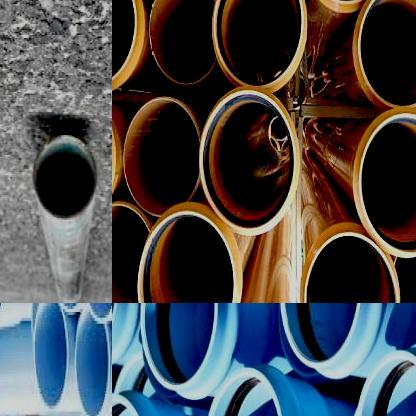pipe: (199, 89, 298, 236), (136, 203, 243, 303), (353, 107, 416, 258), (124, 98, 202, 216), (213, 0, 308, 93), (300, 223, 400, 303), (352, 0, 416, 110), (140, 303, 218, 390), (149, 0, 217, 85), (34, 134, 98, 221), (280, 303, 362, 365), (28, 303, 68, 409), (203, 366, 284, 416), (356, 349, 416, 416), (112, 202, 151, 303), (112, 0, 145, 94)
